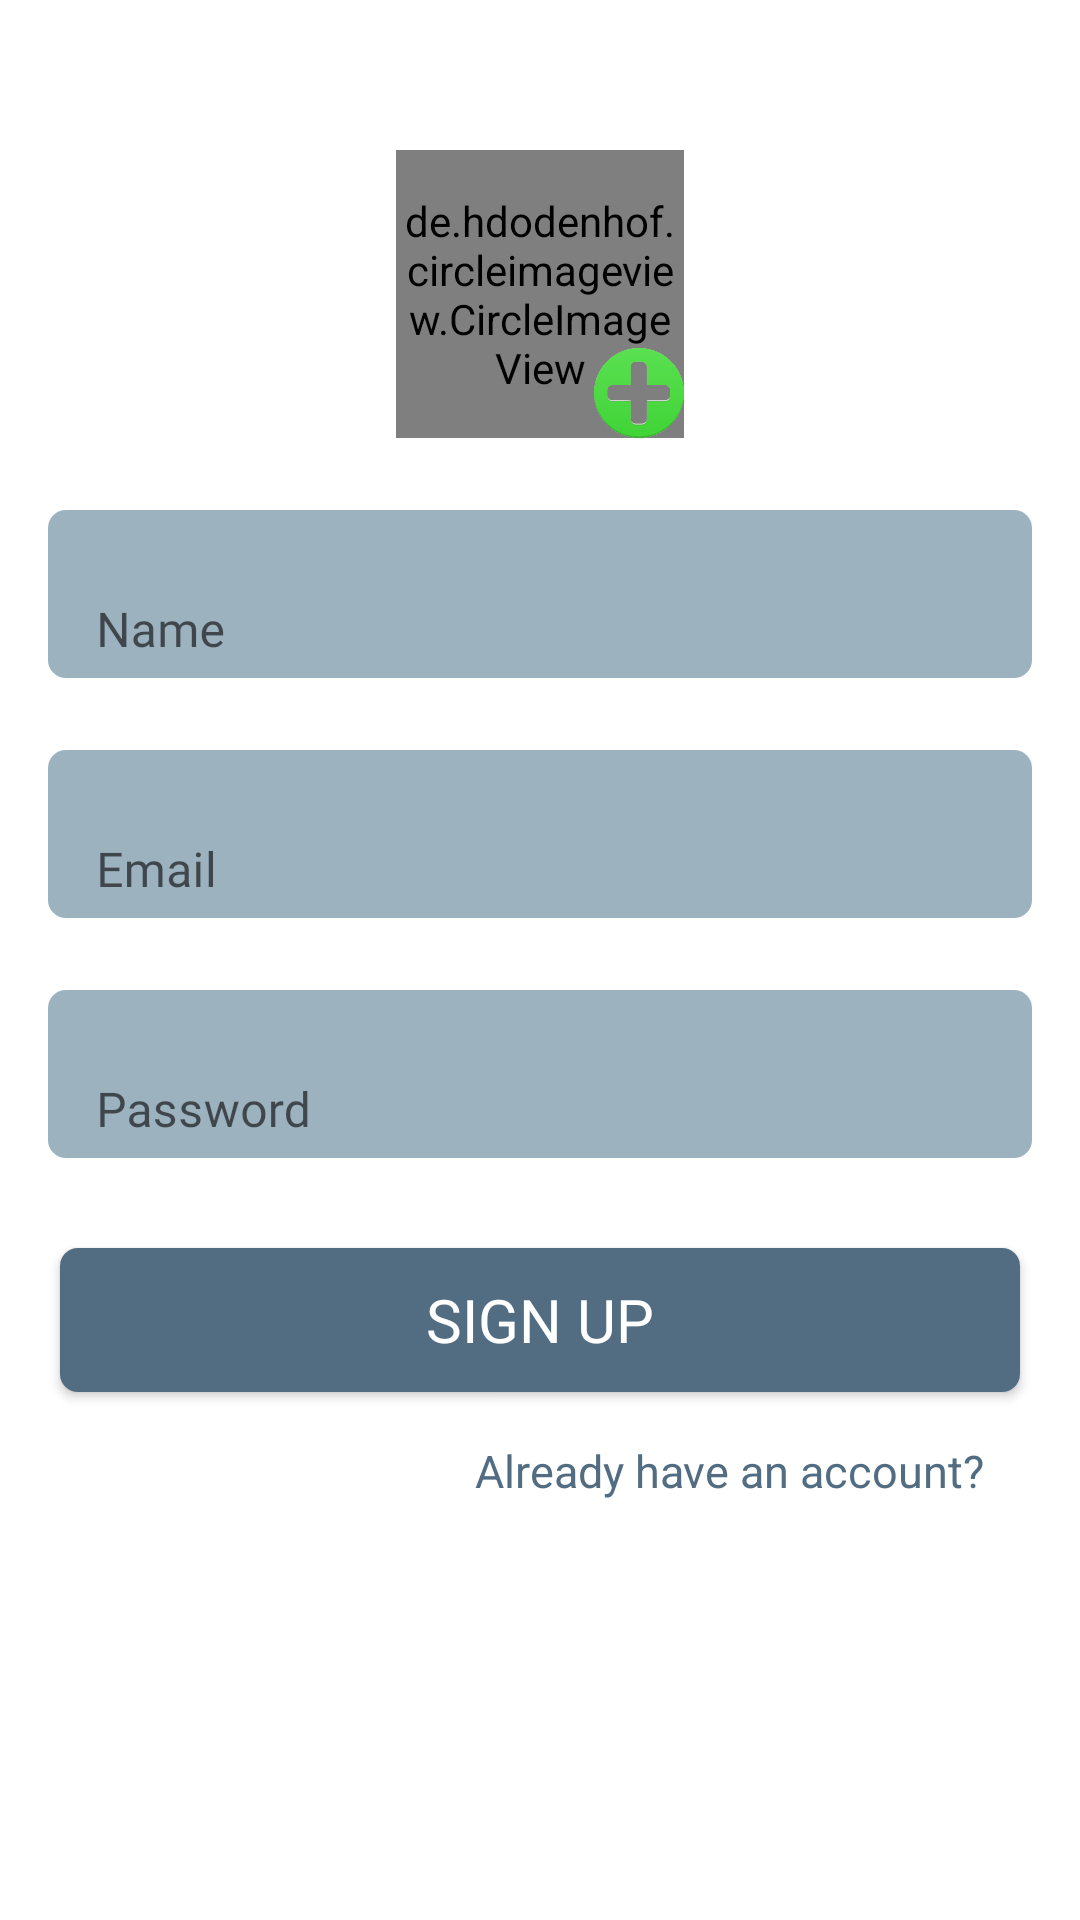

Icon click points for this 1080px×1920px phone screenshot, format (x=x, y=y):
add: (x=639, y=393)
